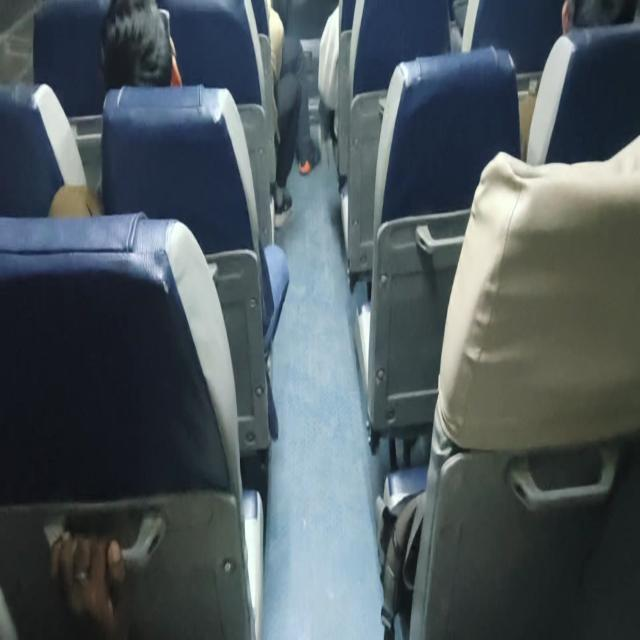person: (97, 1, 290, 437), (48, 529, 127, 636), (267, 2, 301, 228), (98, 0, 182, 89), (560, 0, 637, 35)
